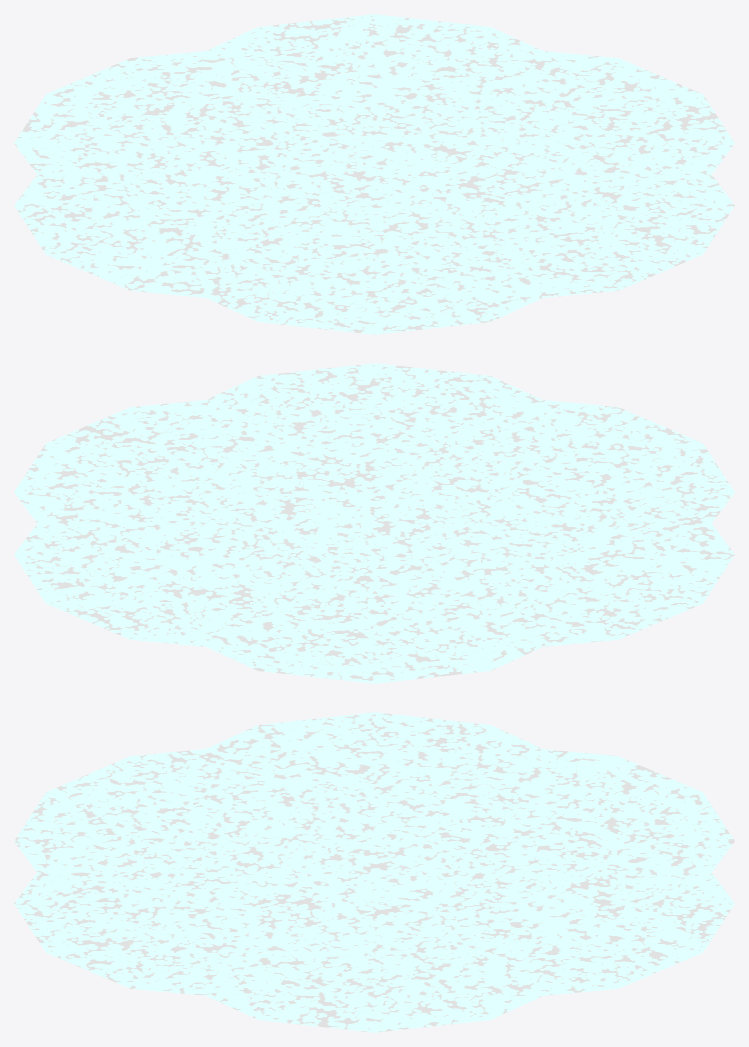
The model's file is MeltingMatter.fbx.
The picture shows the model from 3 angles, top to bottom: view 1: azimuth 30°, elevation 25°; view 2: azimuth 150°, elevation 25°; view 3: azimuth 270°, elevation 25°; orthographic projection.
Parts seen in each view (by area): view 1: MeltingMatter; view 2: MeltingMatter; view 3: MeltingMatter.
Boxes of the visible parts, x1,y1,x2,y2 form: MeltingMatter: (14, 14, 734, 334); MeltingMatter: (14, 363, 734, 683); MeltingMatter: (14, 712, 734, 1032).
Bounding box in the file's own units: 1073 × 0 × 1020.
